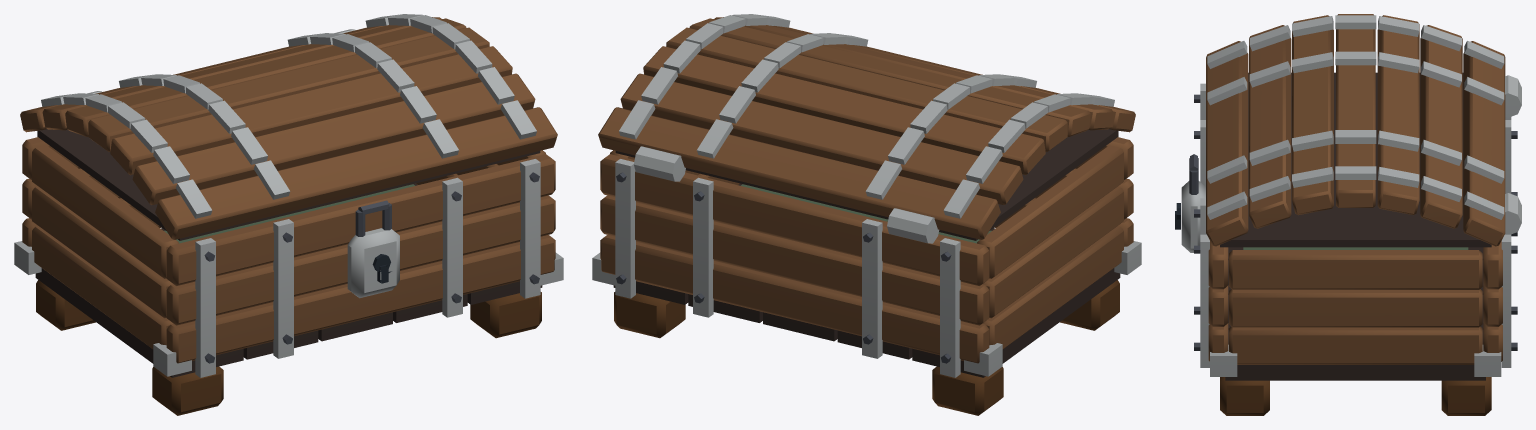
Rendered from chest.glb.
The picture shows the model from 3 angles, left to right: view 1: azimuth 30°, elevation 25°; view 2: azimuth 150°, elevation 25°; view 3: azimuth 270°, elevation 25°; orthographic projection. The views are drawn at different scales.
Visible parts, largest first — view 1: chest, lid; view 2: chest, lid; view 3: lid, chest.
Part boxes in pixels (bbox=[...]): chest: bbox=[14, 29, 563, 415]; lid: bbox=[20, 14, 557, 240]; chest: bbox=[592, 131, 1141, 415]; lid: bbox=[598, 14, 1135, 240]; lid: bbox=[1206, 14, 1505, 247]; chest: bbox=[1175, 75, 1521, 415].
Bounding box in the file's own units: 1.22 × 0.736 × 0.985.
